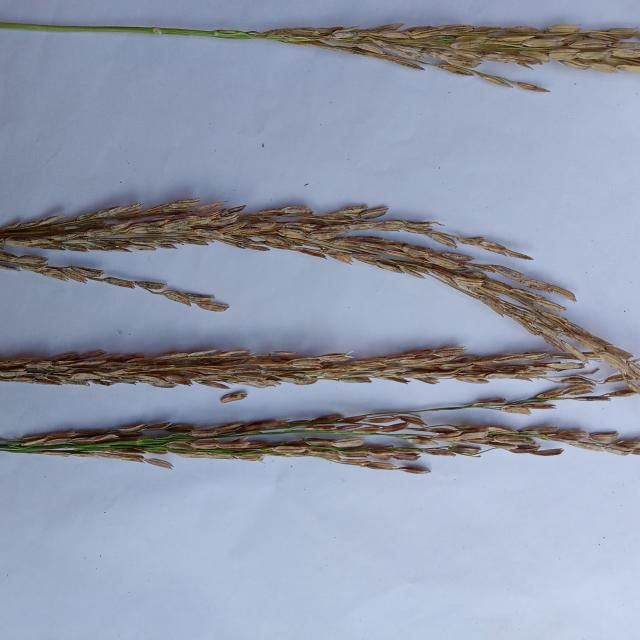Neck_Blast: (3, 205, 625, 355), (1, 416, 636, 466), (1, 345, 583, 387), (260, 26, 636, 68)
